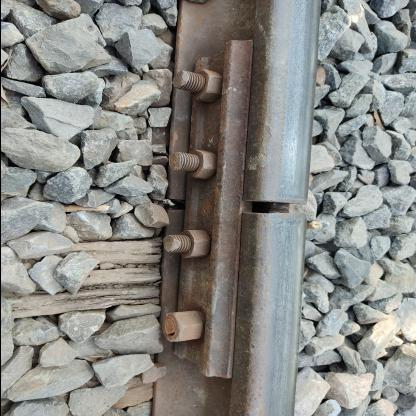Non Defective: (115, 30, 257, 396)
